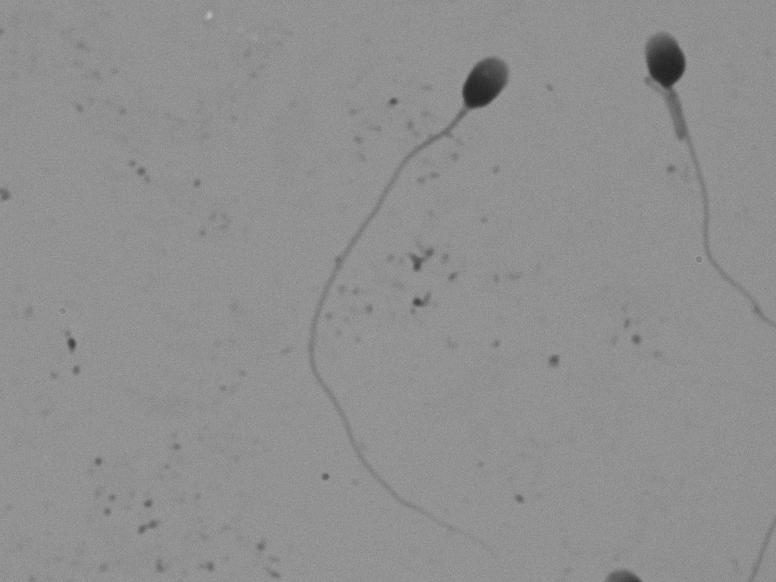Abnormal: (592, 13, 757, 349)
Normal: (251, 41, 552, 545)
